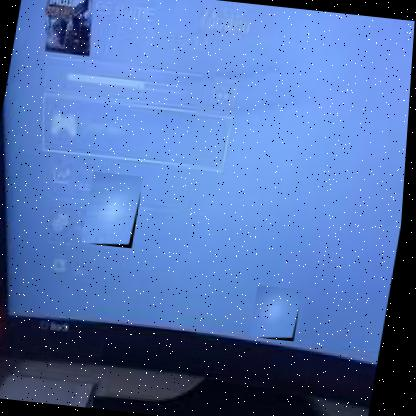spot: (84, 171, 147, 249), (253, 284, 307, 342)
